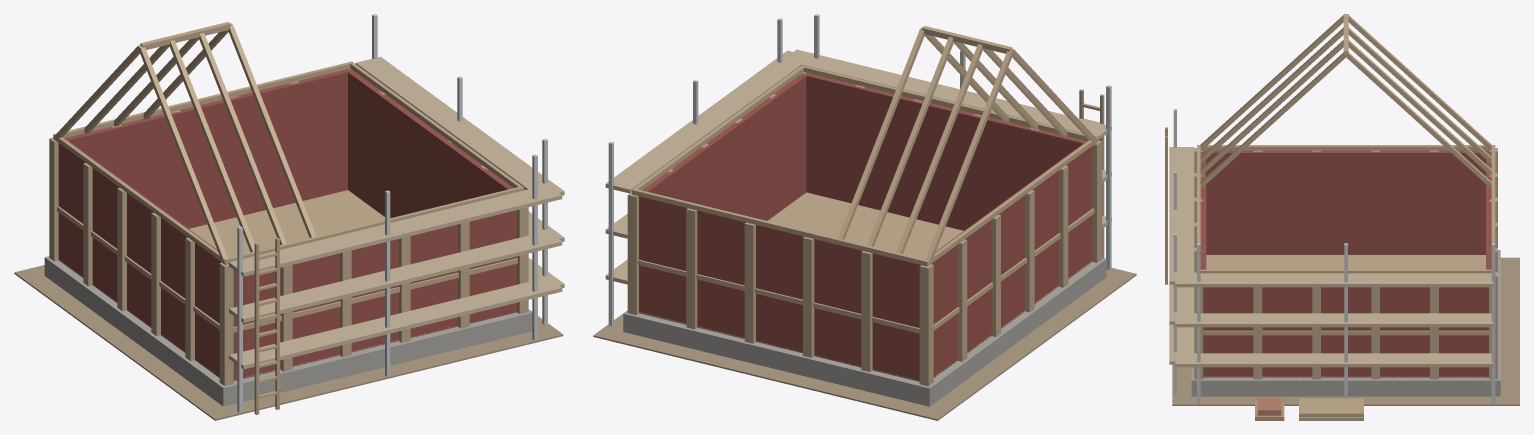
Rendered from barn_site_8.glb.
The picture shows the model from 3 angles, left to right: view 1: azimuth 30°, elevation 25°; view 2: azimuth 150°, elevation 25°; view 3: azimuth 270°, elevation 25°; orthographic projection. The views are drawn at different scales.
Parts seen in each view (by area): view 1: body; view 2: body; view 3: body.
Part boxes in pixels (x1,y1,x2,y2): body: (14, 14, 564, 420); body: (593, 14, 1136, 420); body: (1165, 14, 1519, 420).
Bounding box in the file's own units: 2.6 × 1.92 × 2.41.
